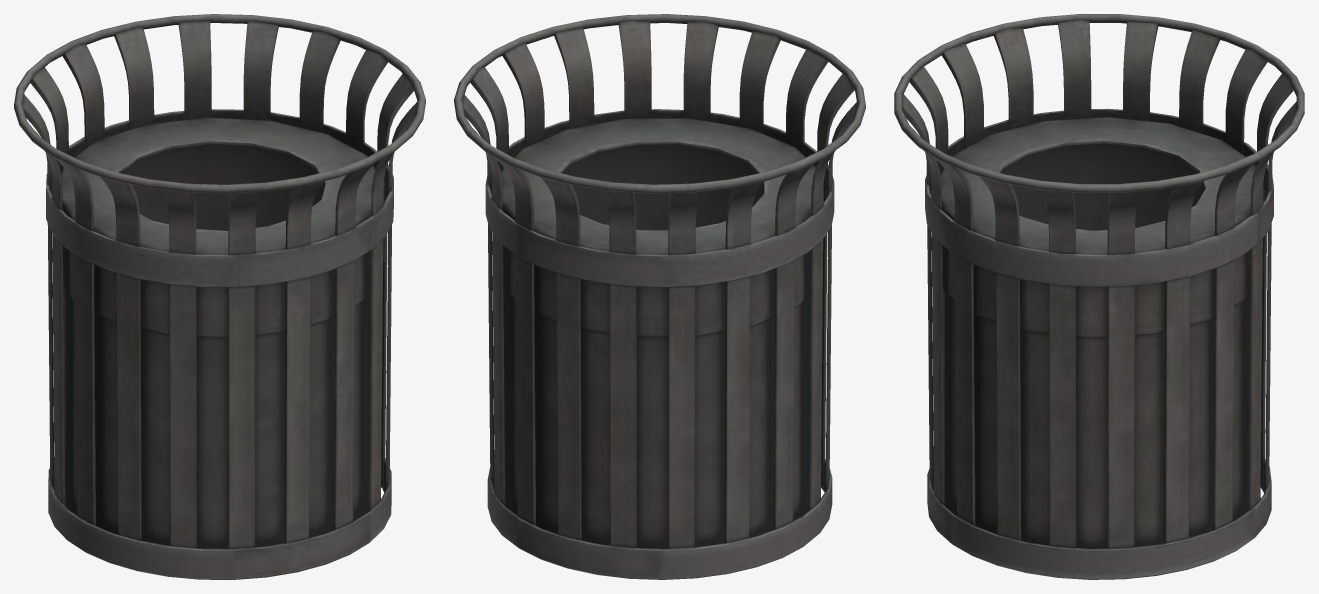
Rendered from bin.glb.
The picture shows the model from 3 angles, left to right: view 1: azimuth 30°, elevation 25°; view 2: azimuth 150°, elevation 25°; view 3: azimuth 270°, elevation 25°; orthographic projection.
Visible parts, largest first — view 1: SM_Garbage_Bin; view 2: SM_Garbage_Bin; view 3: SM_Garbage_Bin.
Boxes of the visible parts, x1,y1,x2,y2 form: SM_Garbage_Bin: (14,14,425,579); SM_Garbage_Bin: (454,14,865,579); SM_Garbage_Bin: (894,14,1304,579).
Size of the model in its own units: 0.7813 by 0.8576 by 0.7813.
1 material, 1 textured.
